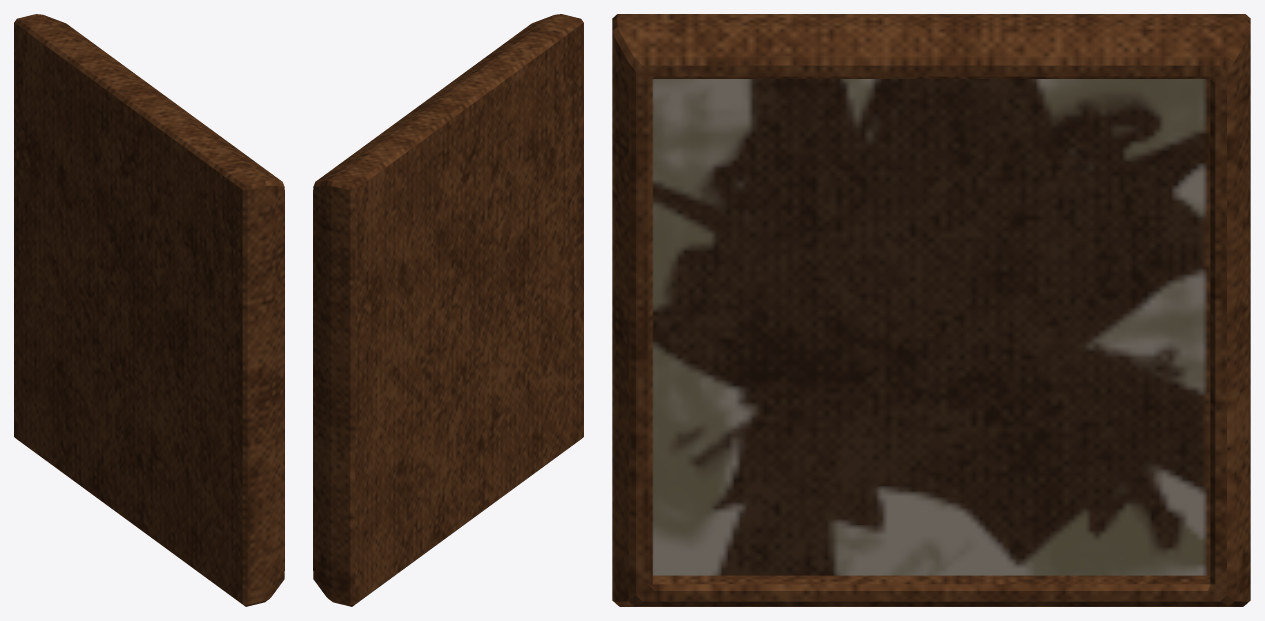
Rendered from painting_frame.fbx.
The picture shows the model from 3 angles, left to right: view 1: azimuth 30°, elevation 25°; view 2: azimuth 150°, elevation 25°; view 3: azimuth 270°, elevation 25°; orthographic projection. The views are drawn at different scales.
Parts seen in each view (by area): view 1: Cube; view 2: Cube; view 3: Cube.
Part boxes in pixels (x1,y1,x2,y2): Cube: [14, 14, 284, 606]; Cube: [313, 14, 583, 606]; Cube: [612, 14, 1250, 606].
Size of the model in its own units: 24.23 by 200 by 200.
1 material, 1 textured.
